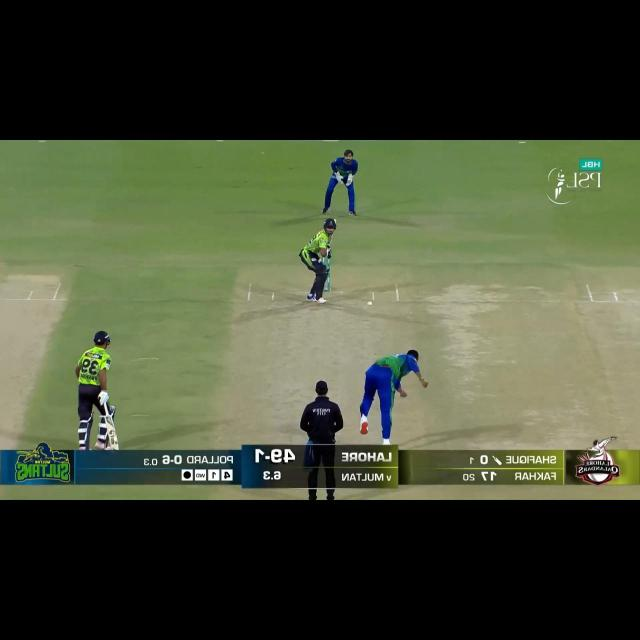bat: (101, 415, 124, 451), (328, 236, 332, 247)
toe: (110, 442, 120, 450), (332, 217, 339, 225)
